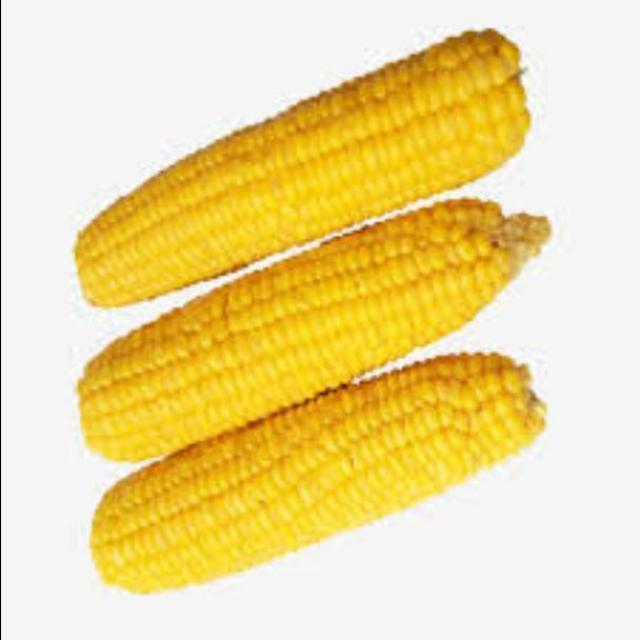corn: (63, 22, 541, 336), (59, 182, 558, 472), (74, 342, 572, 614)
